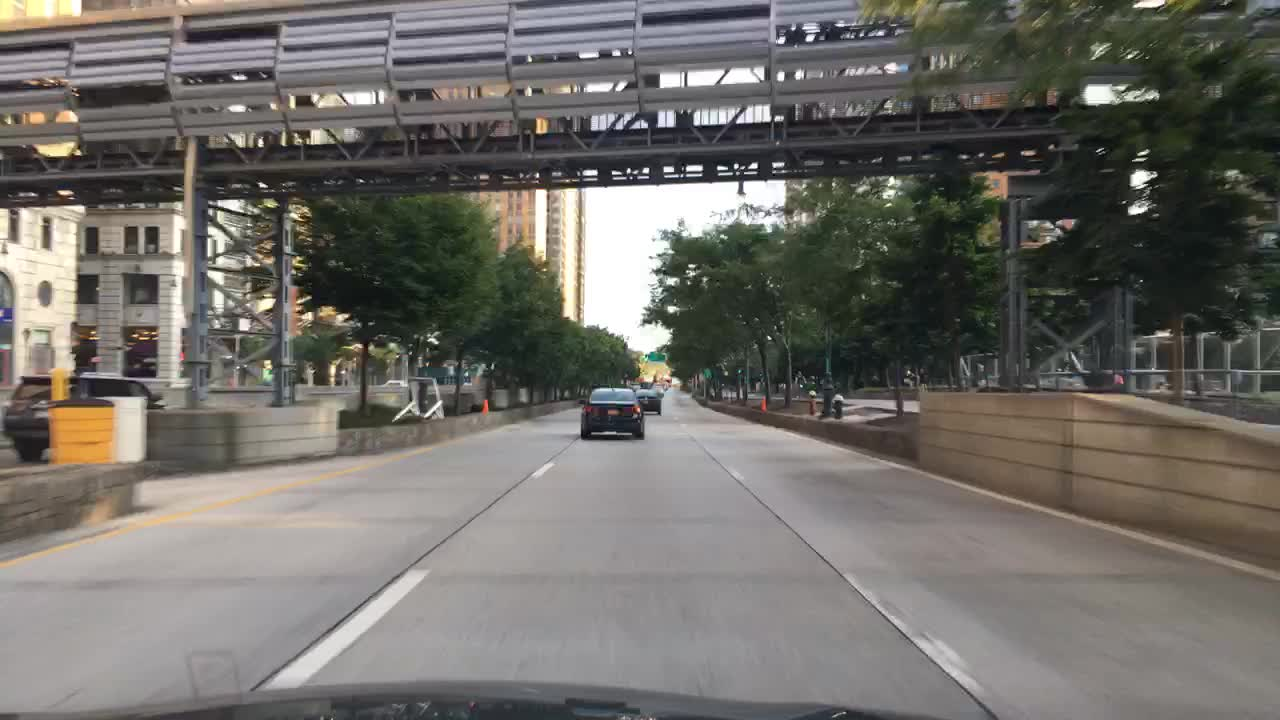car: (2, 370, 163, 467), (574, 386, 645, 441), (375, 377, 415, 404), (636, 389, 661, 416), (646, 383, 664, 401), (659, 374, 673, 387), (652, 380, 667, 389), (628, 377, 643, 386)
person: (1107, 368, 1124, 392), (916, 365, 931, 392), (904, 371, 916, 395)
traffic sign: (648, 350, 667, 362), (701, 366, 712, 378)
